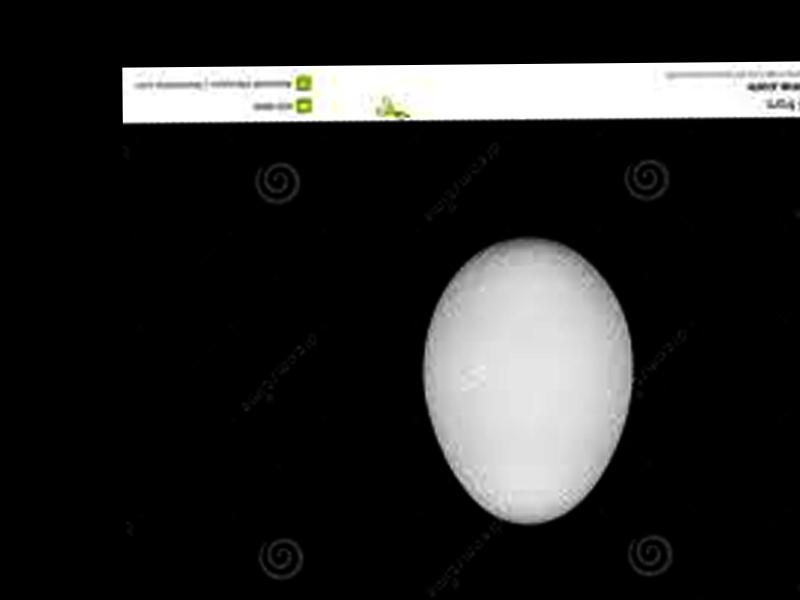Eggs: (416, 236, 632, 524)
